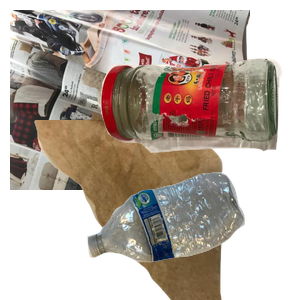glass: (98, 56, 300, 201)
paper: (10, 10, 250, 190)
plastic: (85, 170, 300, 300)
trash: (32, 120, 248, 300)
